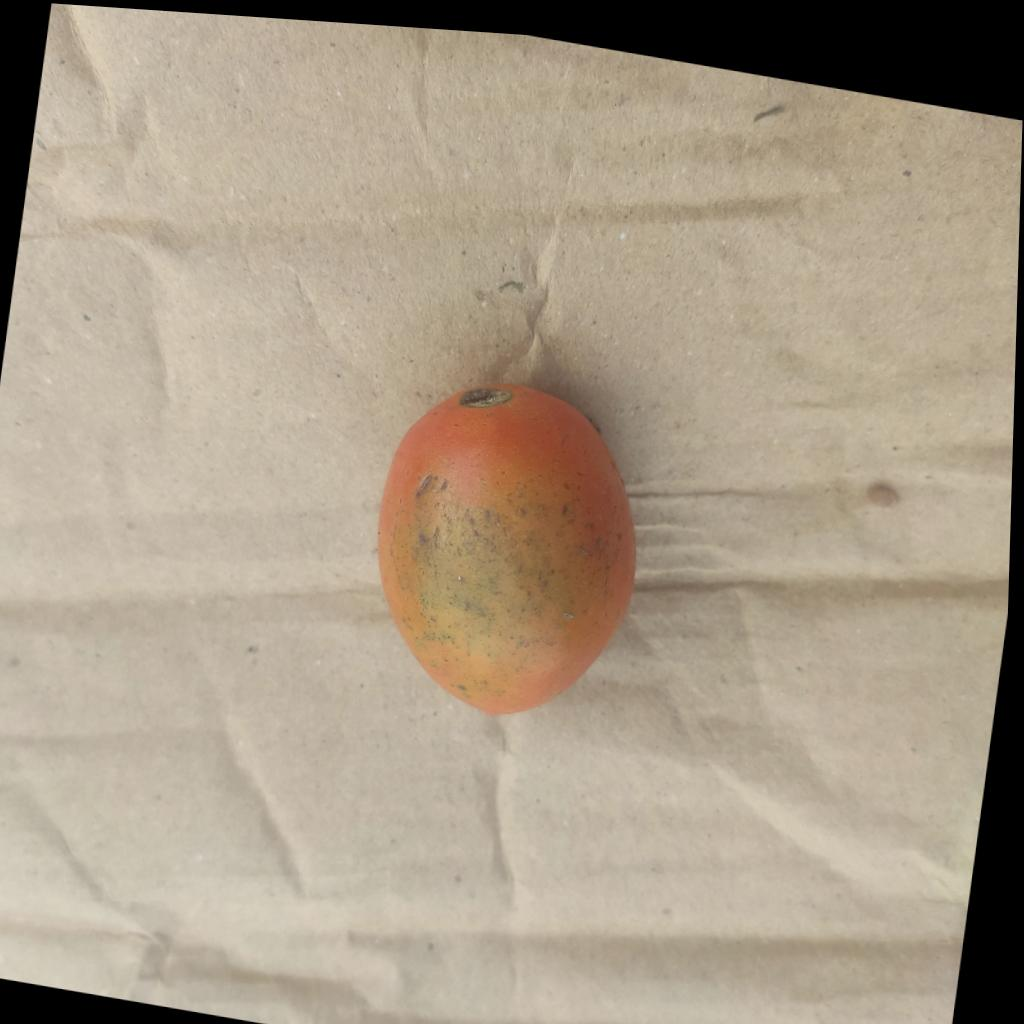bruise_discoloration: (384, 452, 601, 675)
tomato: (378, 383, 635, 713)
